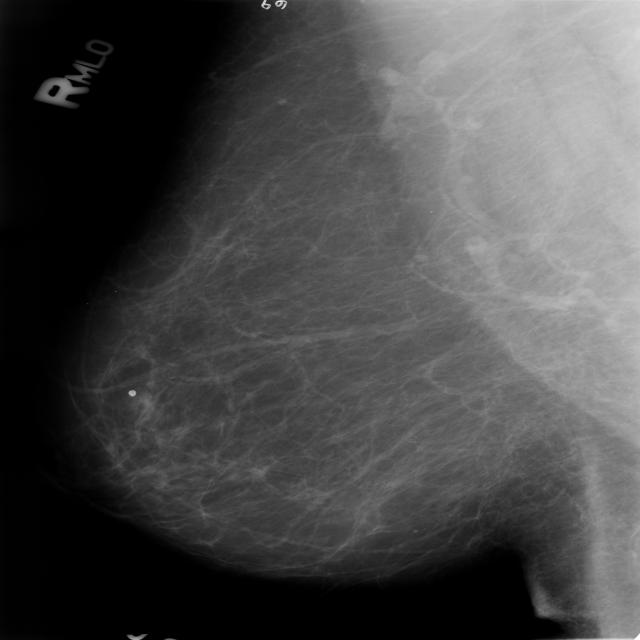normal: (57, 0, 640, 591)
